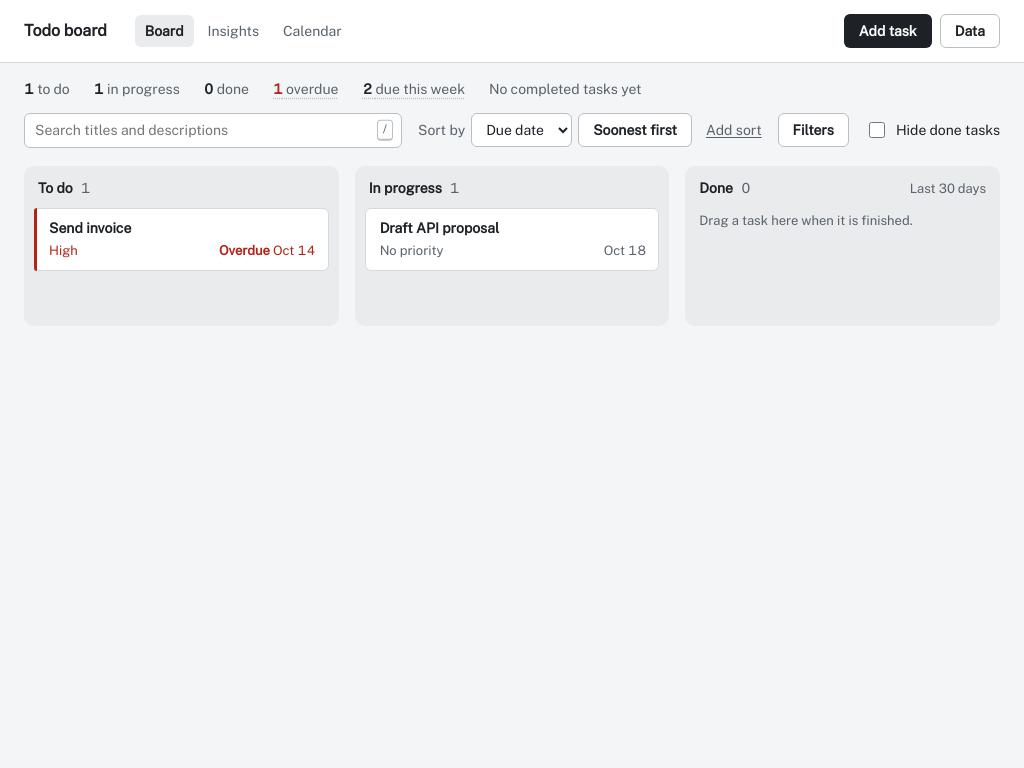
App › exports backups and iCalendar files
What coordinates should you click on to do the following:
click the button "Data"
I would click on:
 (970, 31)
Its box is top-left (940, 14), bottom-right (1000, 48).
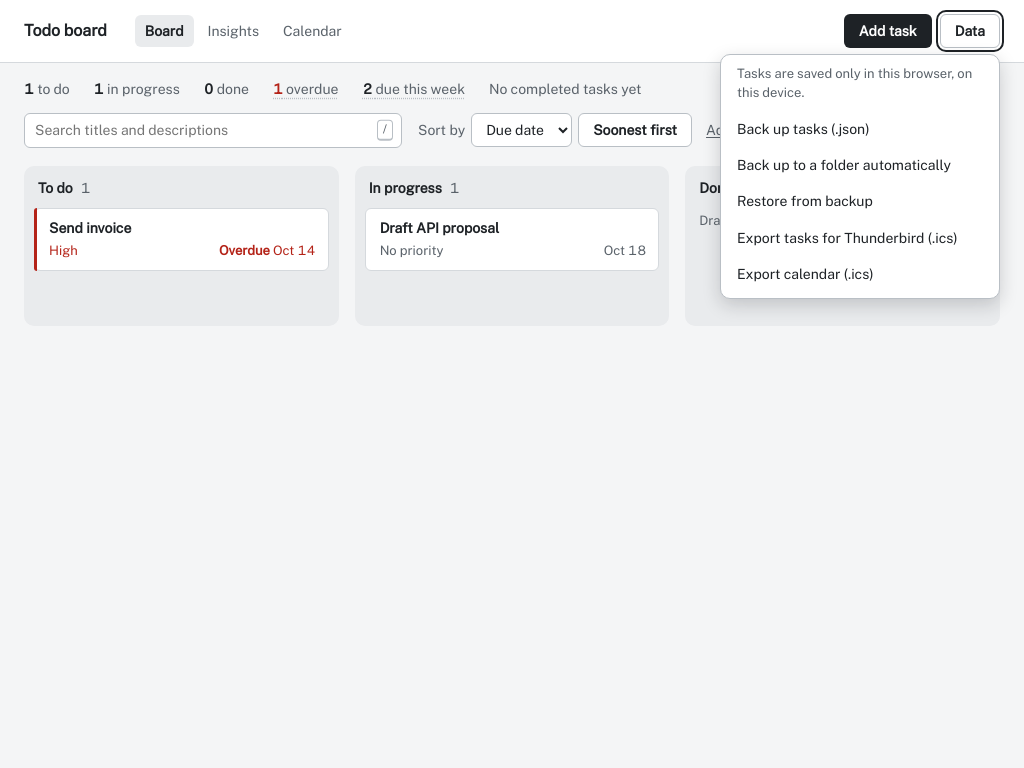
What coordinates should you click on to do the following:
click the button "Back up tasks (.json)"
I would click on:
 (860, 129)
Its box is top-left (727, 111), bottom-right (993, 147).
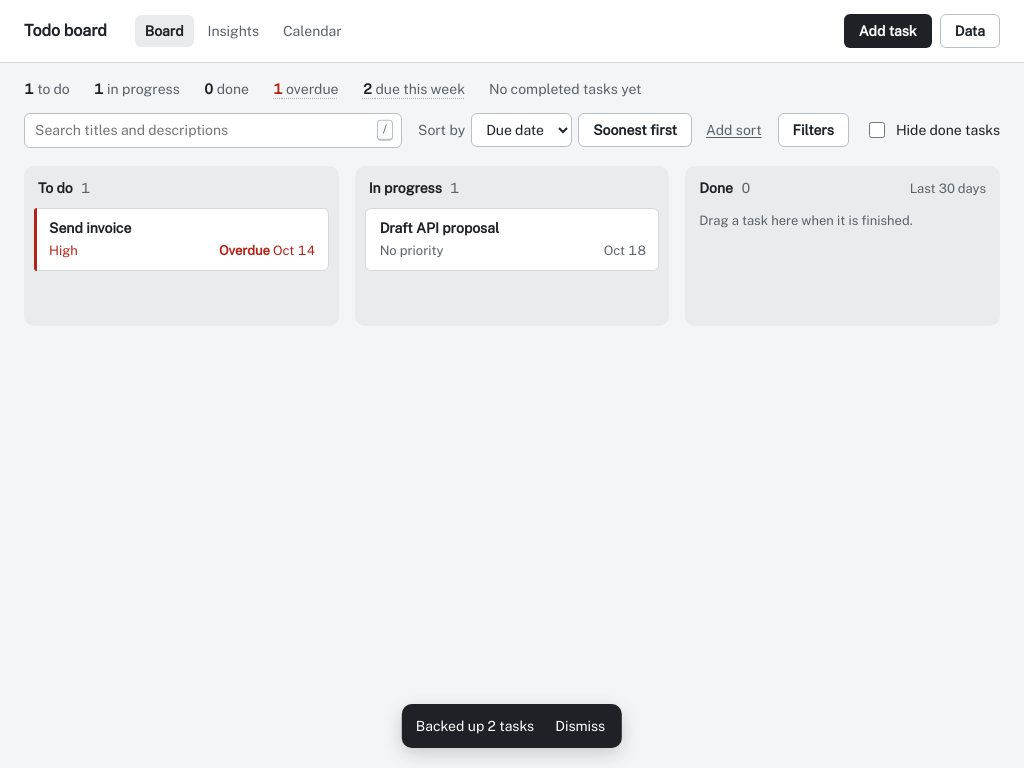
Now the message shows "Backed up 2 tasks", box top-left (416, 718), bottom-right (534, 734)
What coordinates should you click on to do the following:
click the button "Data"
I would click on:
 (970, 31)
Its box is top-left (940, 14), bottom-right (1000, 48).
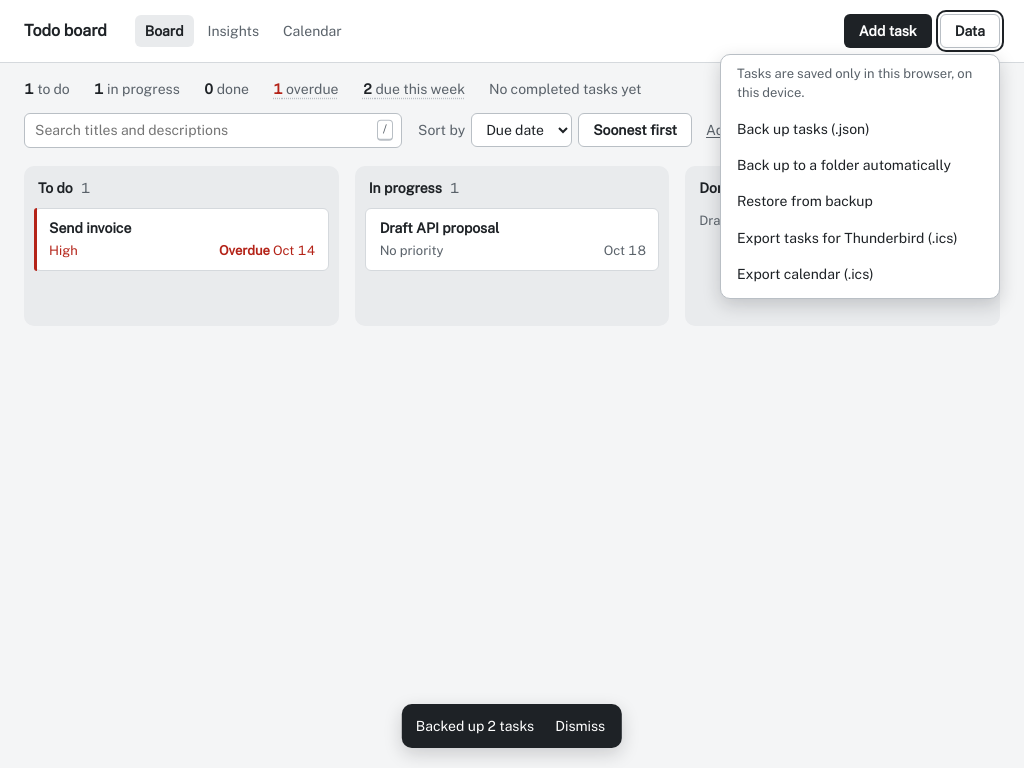
What coordinates should you click on to do the following:
click the button "Export tasks for Thunderbird (.ics)"
I would click on:
 (860, 238)
Its box is top-left (727, 220), bottom-right (993, 256).
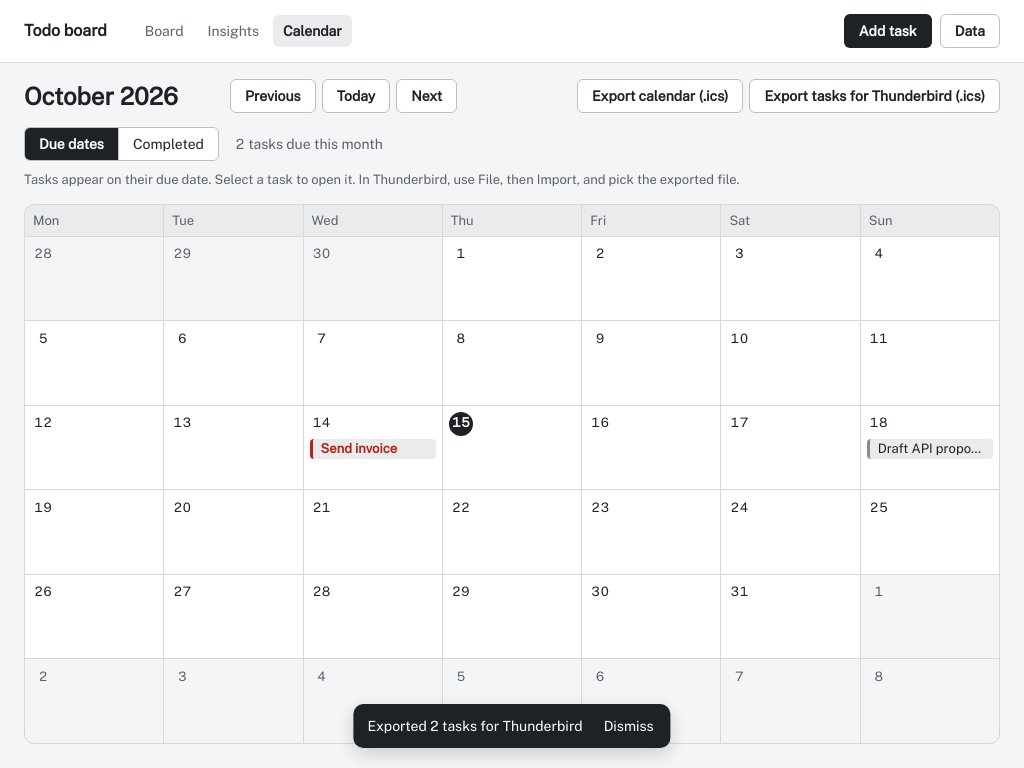
Now the message shows "Exported 2 tasks for Thunderbird", box top-left (367, 718), bottom-right (583, 734)
What coordinates should you click on to do the following:
click the button "Export calendar (.ics)"
I would click on:
 (660, 96)
Its box is top-left (577, 79), bottom-right (744, 113).
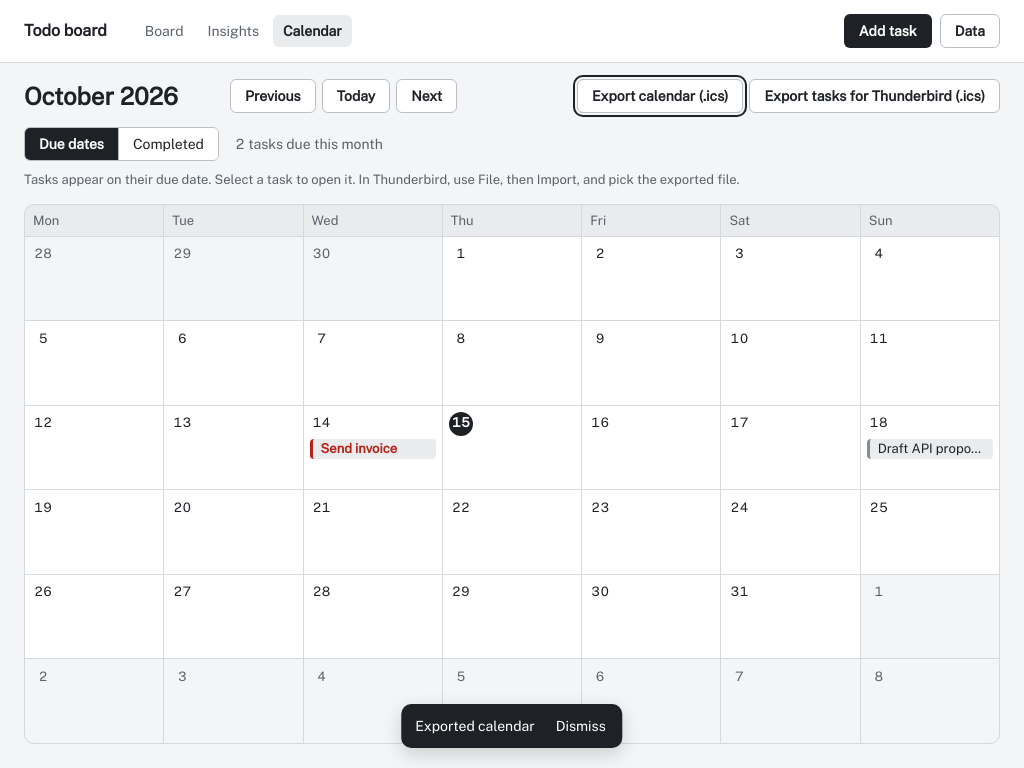
Now the message shows "Exported calendar", box top-left (415, 718), bottom-right (535, 734)
